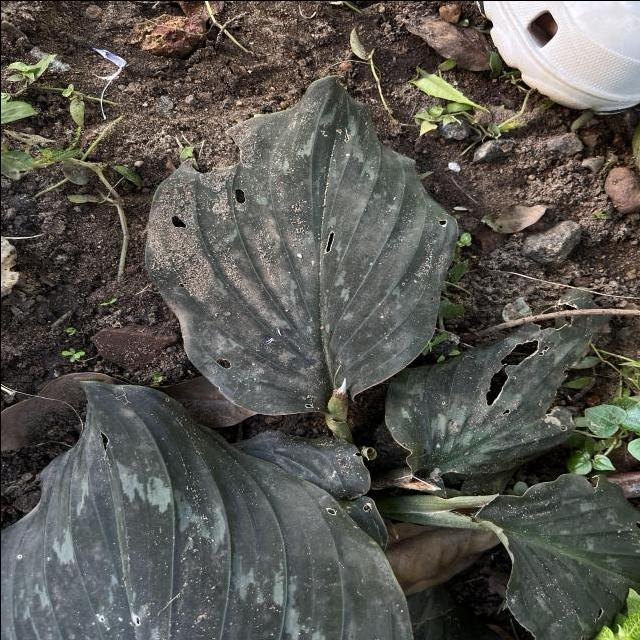Kaempferia galanga linn: (141, 72, 461, 419)
